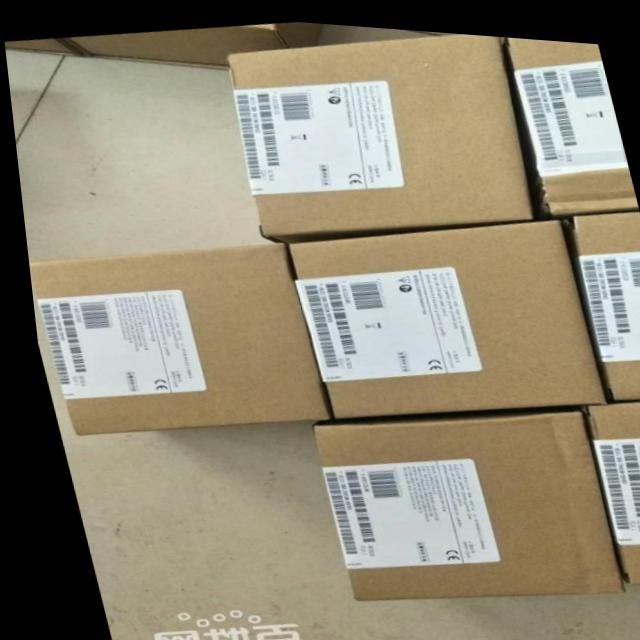box: (281, 213, 603, 415), (226, 28, 529, 239), (306, 402, 614, 594), (23, 240, 322, 436), (506, 29, 634, 207), (569, 200, 640, 394), (569, 390, 640, 575), (65, 18, 323, 68), (4, 37, 79, 53)
